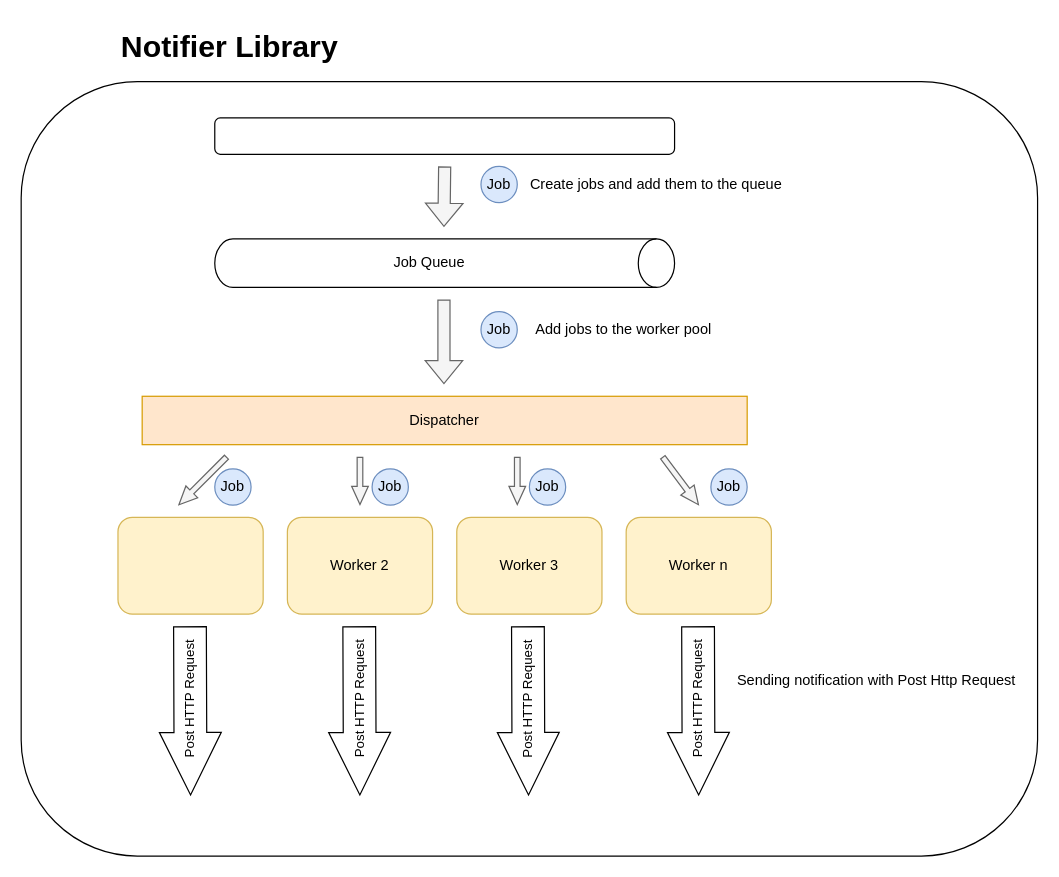
Image size: 1059x877. Some labels were removed from this diagram. The shapes that lost their labels are listed below. From the top down, each one's box as (x1, y1, x2, y2) in pixels, then its label:
(214, 117, 675, 154): Data array
(117, 516, 263, 614): Worker 1
